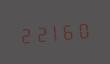one: (48, 20, 62, 43)
six: (63, 19, 77, 42)
two: (33, 21, 47, 44), (18, 23, 32, 45)
zero: (78, 18, 92, 40)
